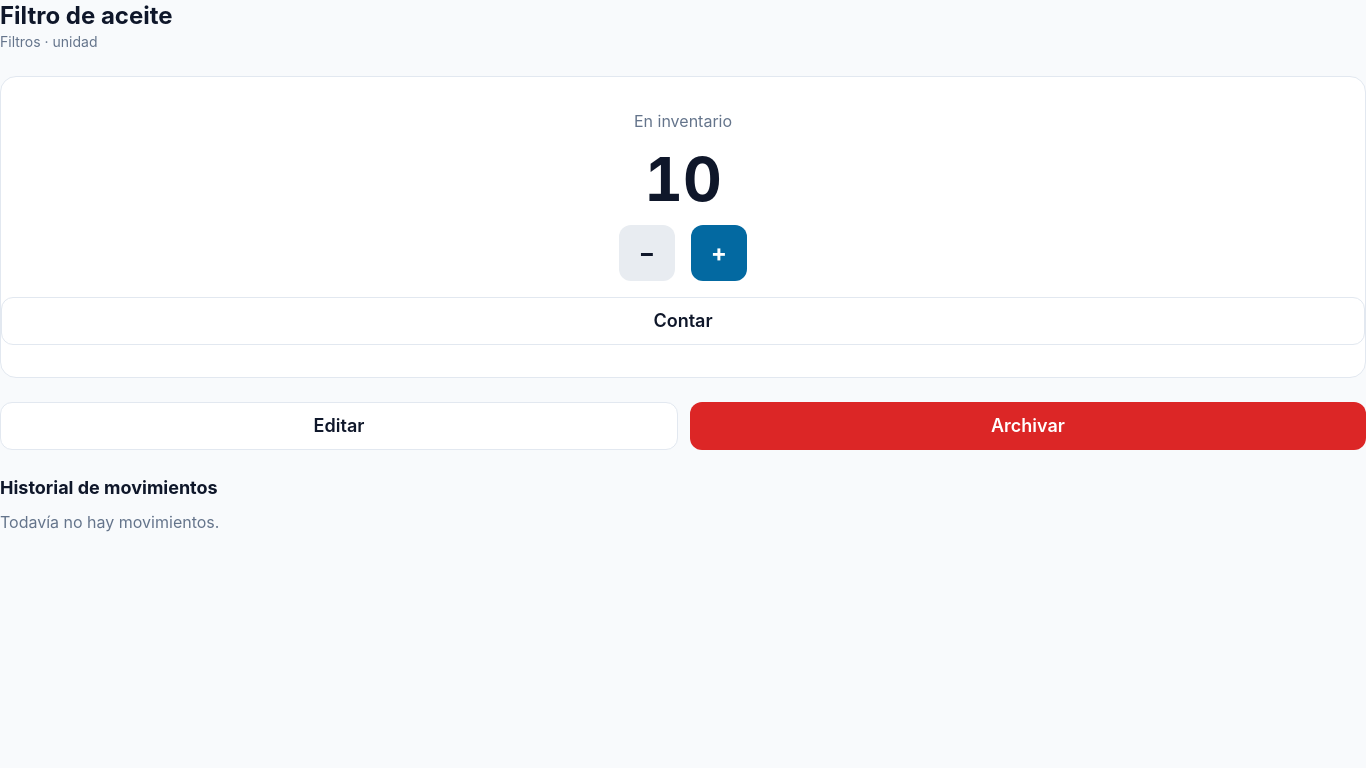
Scenario: ItemDetailPage › refuses to save a count over the maximum and explains why, instead of recording it
The image size is (1366, 768).
Expected: the text "10" is shown, [644,149,722,209]
Click the button "Contar" at (683, 321), box [1,297,1365,345]
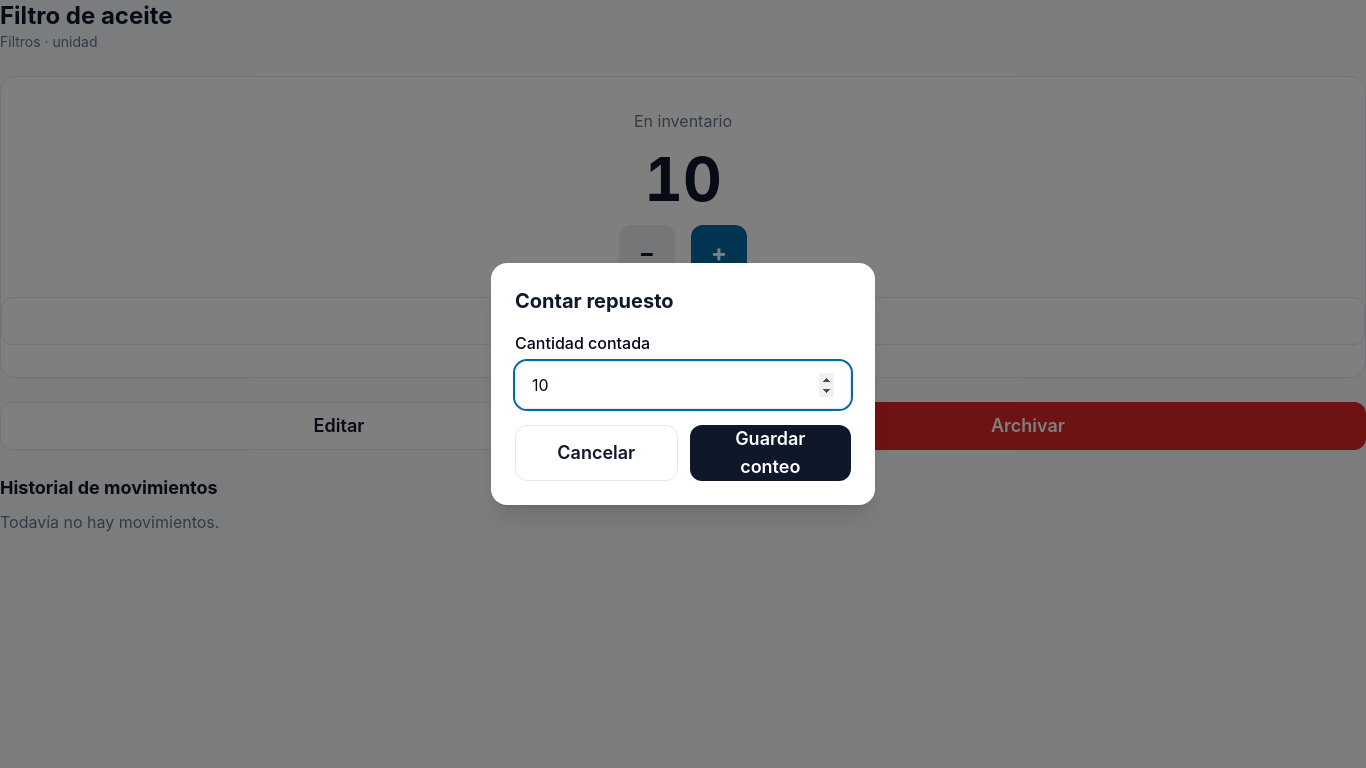
Replace the text in the number field labelled "Cantidad contada" with "1000001" at (683, 385), box [515,361,851,409]
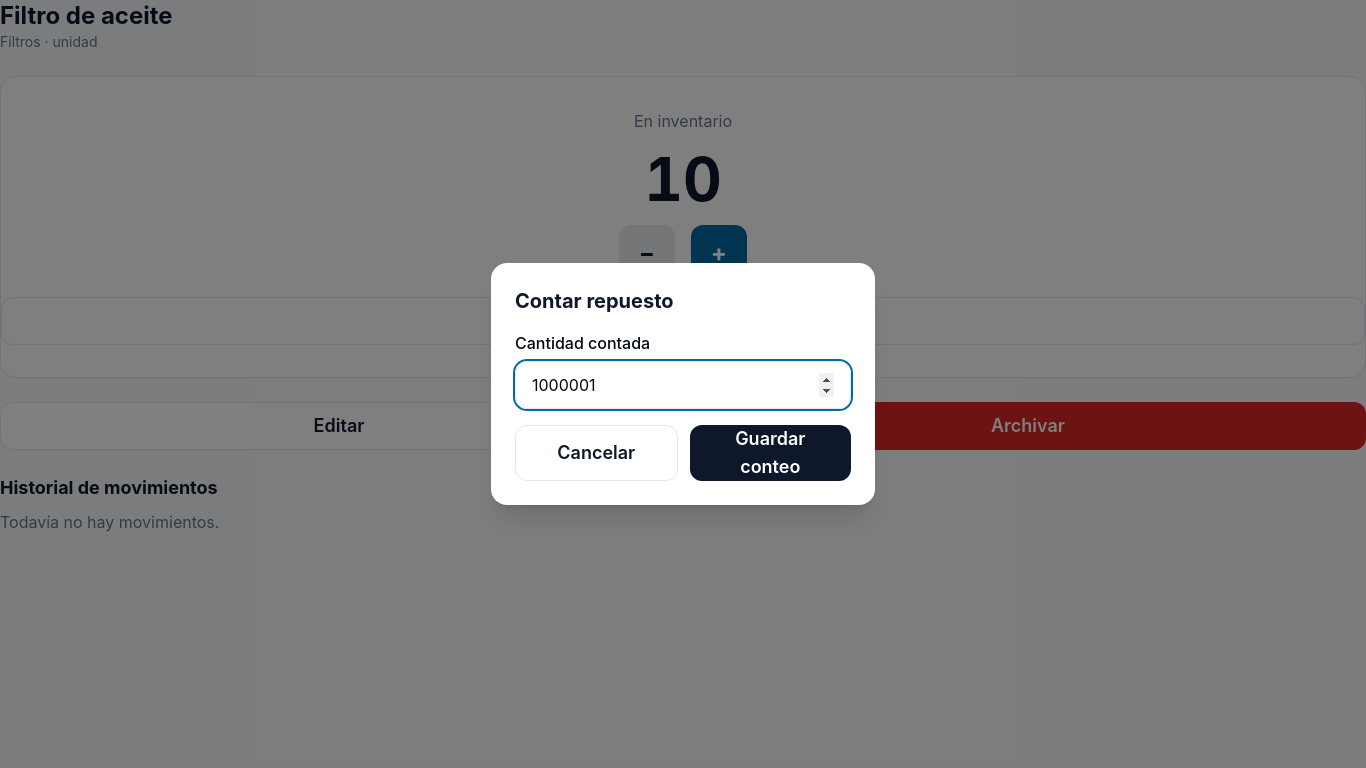
Click the button "Guardar conteo" at (770, 453), box [690,425,851,481]
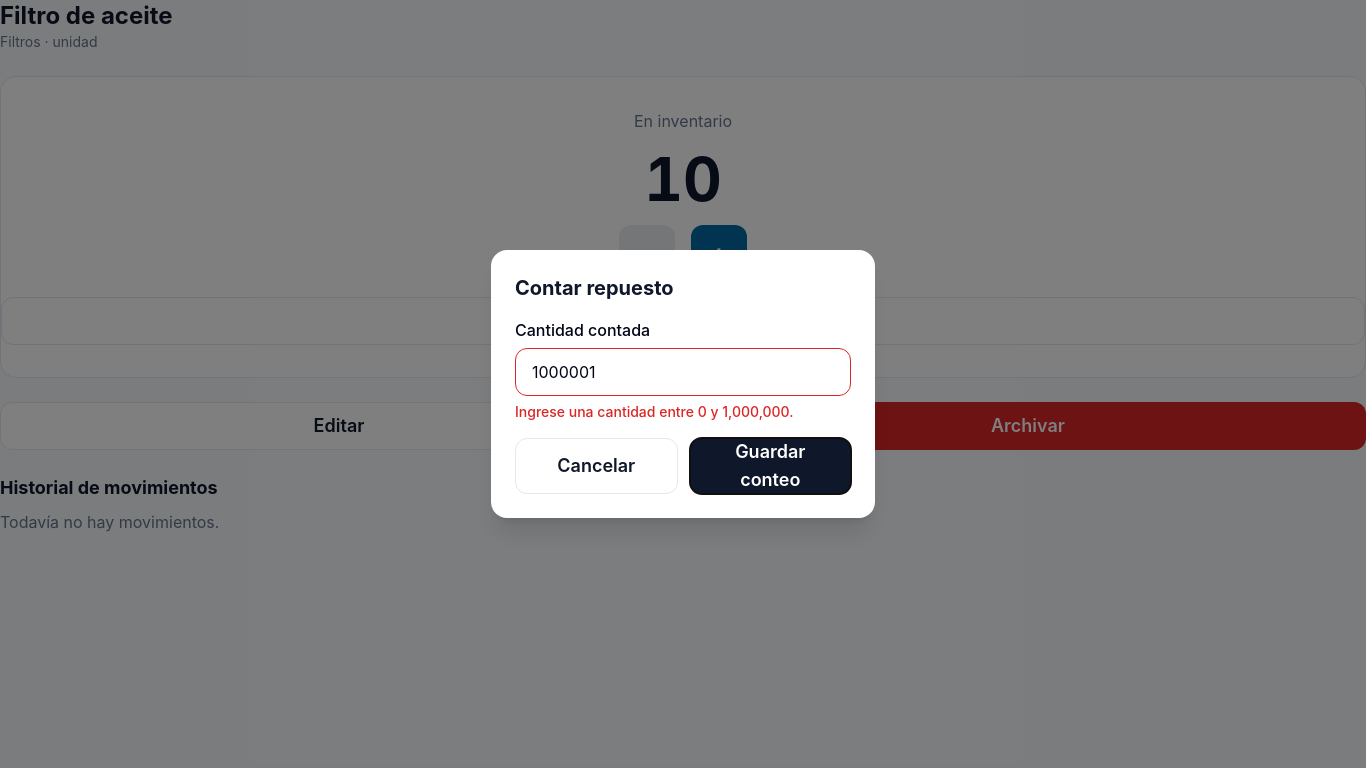
Expected: the text "10" is shown, [644,149,722,209]
Result: the text "Ingrese una cantidad entre 0 y 1,000,000." is shown at [515,403,794,420]
